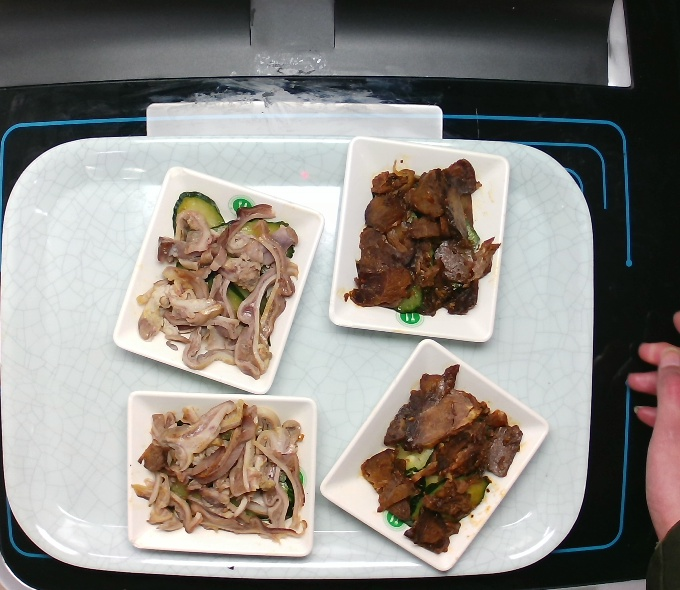wcq-JiangNiuRou: (353, 359, 532, 557), (337, 148, 503, 326)
wcq-ZhuDu: (130, 183, 303, 382), (131, 396, 315, 546)
